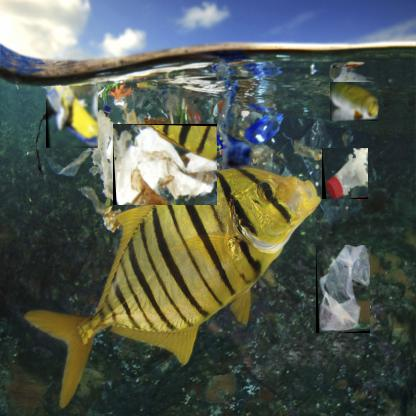bottle: (322, 148, 369, 200), (330, 82, 379, 122)
waste: (114, 124, 220, 206), (316, 246, 371, 336), (46, 86, 99, 149), (223, 142, 252, 168)
